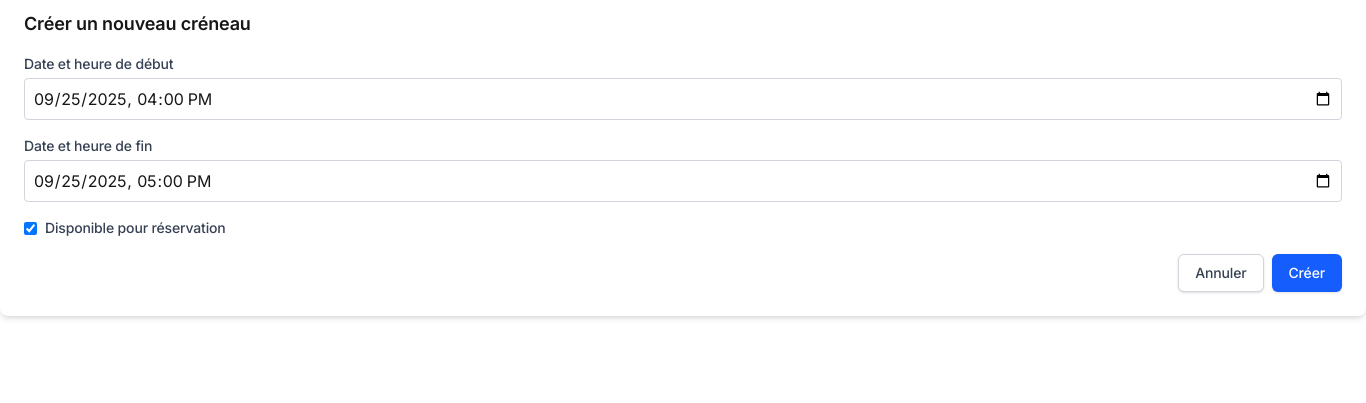
Scenario: SlotForm Component › handles API errors during submission
The width and height of the screenshot is (1366, 403).
Note: Soumettre le formulaire
Click the button "Créer" at x=1307, y=273, box [1272,254,1342,292]
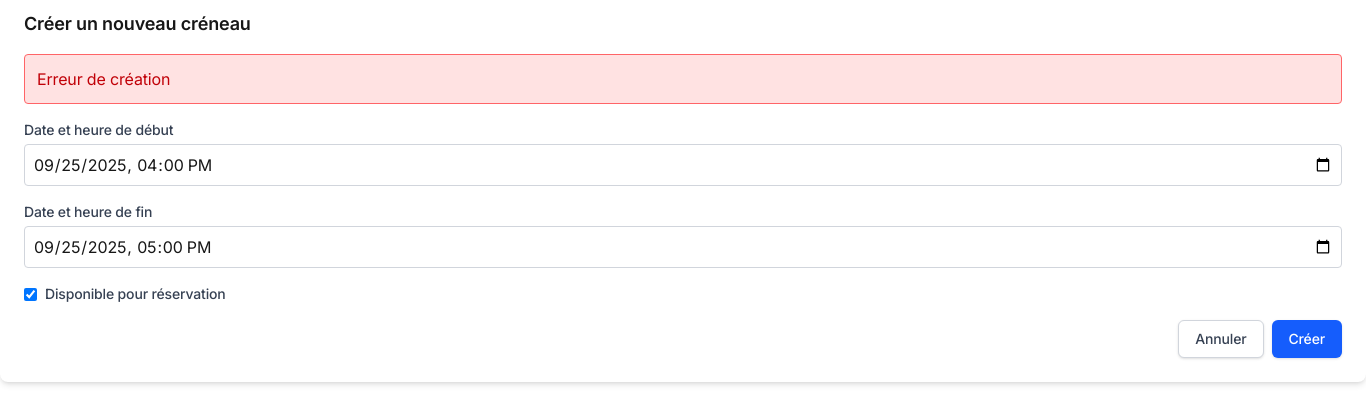
Expected: the text "Erreur de création" is shown, [24,54,1342,104]
